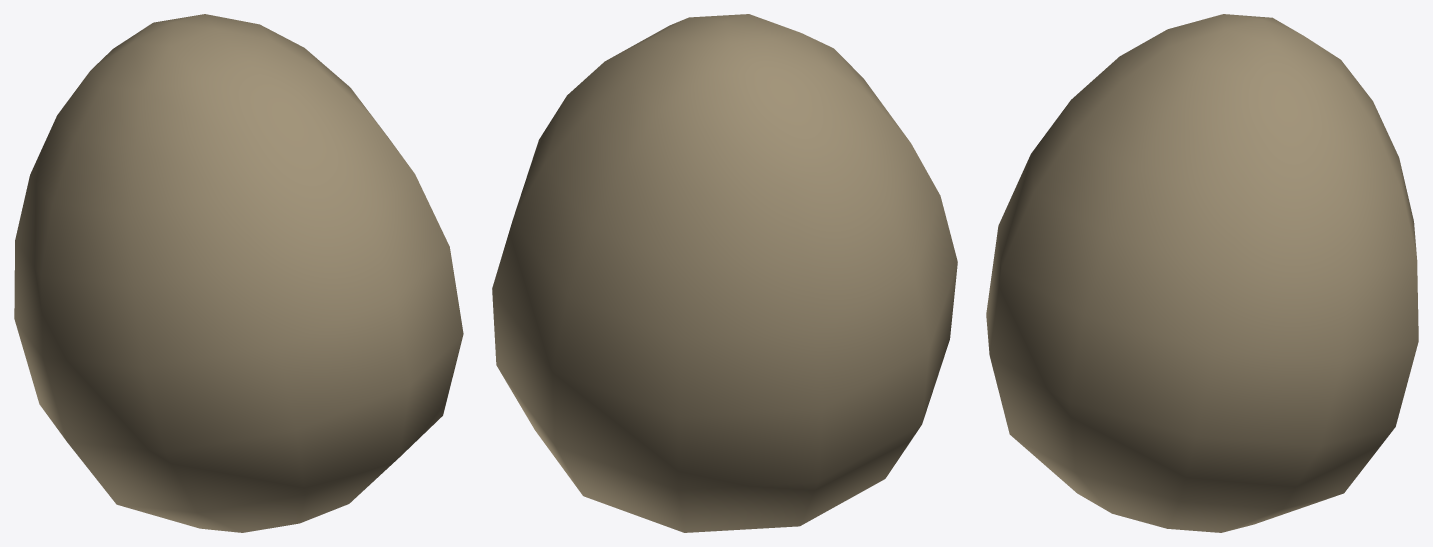
Rendered from EGG.fbx.
3 renders of one model, left to right at view 1: azimuth 30°, elevation 25°; view 2: azimuth 150°, elevation 25°; view 3: azimuth 270°, elevation 25°, orthographic. The views are drawn at different scales.
Visible parts, largest first — view 1: EGG; view 2: EGG; view 3: EGG.
Boxes of the visible parts, left/top/right/bottom form: EGG: left=14, top=14, right=463, bottom=532; EGG: left=492, top=14, right=957, bottom=532; EGG: left=986, top=14, right=1418, bottom=532.
Bounding box in the file's own units: 2205 × 2559 × 2123.
Materials: 1 (1 with a texture image).
